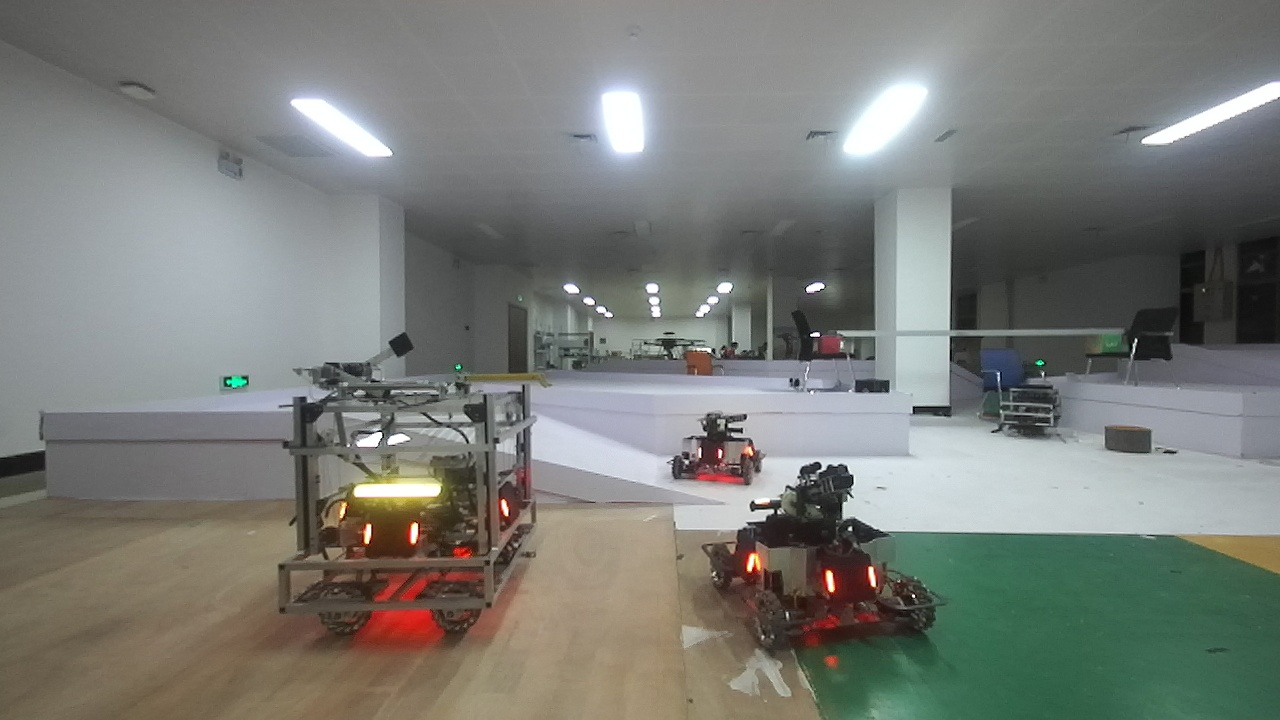car: (275, 356, 540, 656), (693, 464, 938, 646), (666, 397, 771, 495)
